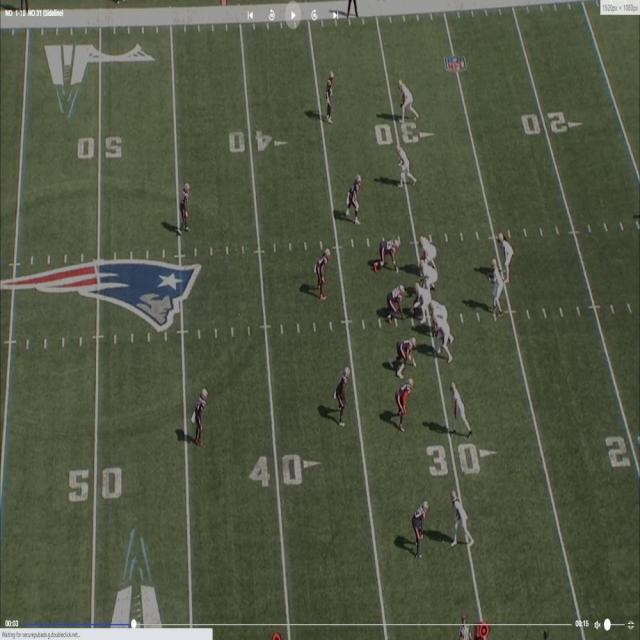center: (411, 282, 430, 320)
db: (416, 499, 432, 553), (195, 386, 210, 440), (180, 184, 190, 231)
lb: (346, 177, 362, 224), (336, 366, 349, 423), (398, 381, 412, 428), (325, 70, 337, 124), (319, 253, 333, 299)
qb: (491, 260, 504, 312), (499, 237, 510, 283)
skill: (449, 493, 467, 548), (451, 384, 469, 434), (398, 80, 416, 124), (396, 145, 409, 186)
